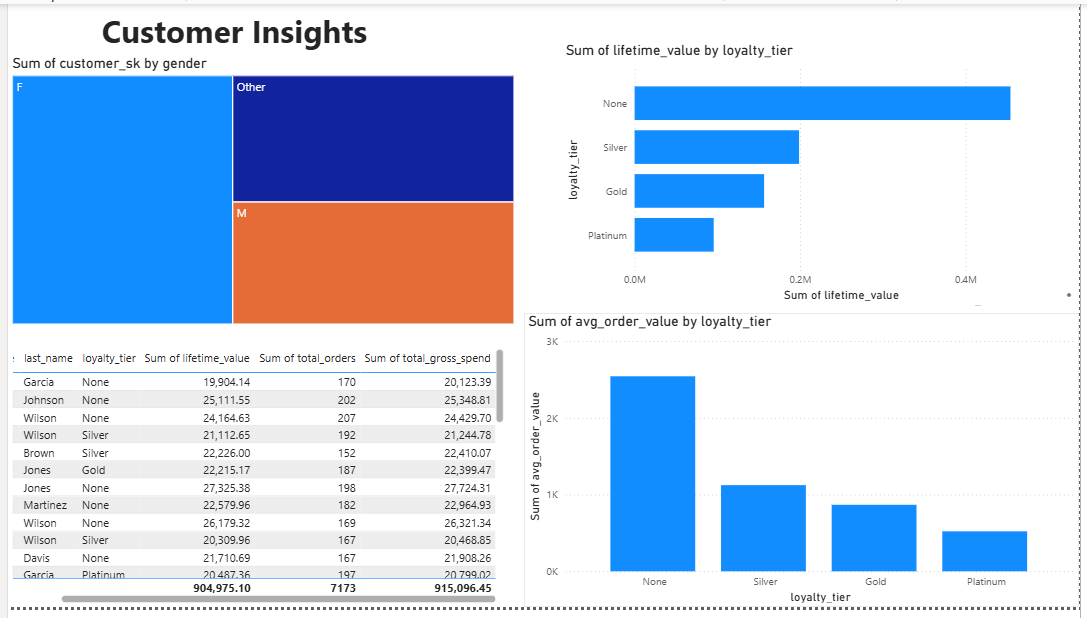

Layout of this report page (visuals, bound fields, positions):
{"tool":"powerbi","page":{"name":"Customer Insights","canvas":[1280,720],"ordinal":3},"visuals":[{"type":"clusteredColumnChart","fields":{"Y":["Sum(`dbt_tuto_prod` `gold` `gold_customer_summary`.avg_order_value)"],"Category":["`dbt_tuto_prod` `gold` `gold_customer_summary`.loyalty_tier"]},"box":[616.4,368.8,663,351.2],"z":0},{"type":"tableEx","fields":{"Values":["`dbt_tuto_prod` `gold` `gold_customer_summary`.first_name","`dbt_tuto_prod` `gold` `gold_customer_summary`.last_name","`dbt_tuto_prod` `gold` `gold_customer_summary`.loyalty_tier","Sum(`dbt_tuto_prod` `gold` `gold_customer_summary`.lifetime_value)","Sum(`dbt_tuto_prod` `gold` `gold_customer_summary`.total_orders)","Sum(`dbt_tuto_prod` `gold` `gold_customer_summary`.total_gross_spend)"]},"box":[0,406.8,596.7,313.6],"z":1},{"type":"textbox","box":[10.8,1.8,519.6,59.1],"z":2},{"type":"clusteredBarChart","fields":{"Category":["`dbt_tuto_prod` `gold` `gold_customer_summary`.loyalty_tier"],"Y":["Sum(`dbt_tuto_prod` `gold` `gold_customer_summary`.lifetime_value)"]},"box":[661.2,44.8,600.3,315.4],"z":3},{"type":"treemap","fields":{"Group":["`dbt_tuto_prod` `gold` `gold_customer_summary`.gender"],"Values":["Sum(`dbt_tuto_prod` `gold` `gold_customer_summary`.customer_sk)"]},"box":[0,60.9,609.2,326.1],"z":4}]}

Visuals, with their boxes in screenshot pixels (x1, y1, x2, y2), scaled from the page's 1280x720 canvas onto the 1087x618 screenshot:
clusteredColumnChart - Sum(`dbt_tuto_prod` `gold` `gold_customer_summary`.avg_order_value) x `dbt_tuto_prod` `gold` `gold_customer_summary`.loyalty_tier: pyautogui.locateOnScreen(523, 317, 1086, 617)
tableEx - `dbt_tuto_prod` `gold` `gold_customer_summary`.first_name x `dbt_tuto_prod` `gold` `gold_customer_summary`.last_name: pyautogui.locateOnScreen(0, 349, 507, 617)
textbox: pyautogui.locateOnScreen(9, 2, 450, 52)
clusteredBarChart - `dbt_tuto_prod` `gold` `gold_customer_summary`.loyalty_tier x Sum(`dbt_tuto_prod` `gold` `gold_customer_summary`.lifetime_value): pyautogui.locateOnScreen(562, 38, 1071, 309)
treemap - `dbt_tuto_prod` `gold` `gold_customer_summary`.gender x Sum(`dbt_tuto_prod` `gold` `gold_customer_summary`.customer_sk): pyautogui.locateOnScreen(0, 52, 517, 332)
